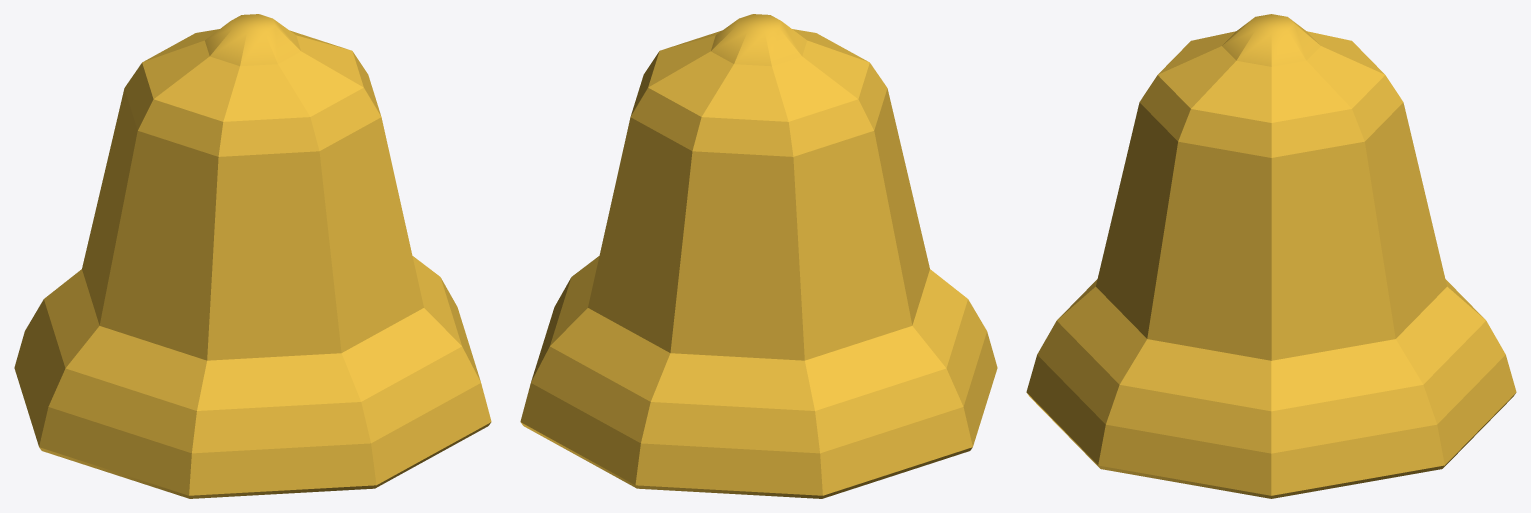
File: bell.fbx
3 views of the same model, side by side, from view 1: azimuth 30°, elevation 25°; view 2: azimuth 150°, elevation 25°; view 3: azimuth 270°, elevation 25° (orthographic).
Parts seen in each view (by area): view 1: bell; view 2: bell; view 3: bell.
Part boxes in pixels (box(x1,y1,x2,y2)): bell: box(14, 14, 491, 498); bell: box(520, 14, 997, 498); bell: box(1026, 14, 1516, 498).
Size of the model in its own units: 0.0718 by 0.0709 by 0.0718.
